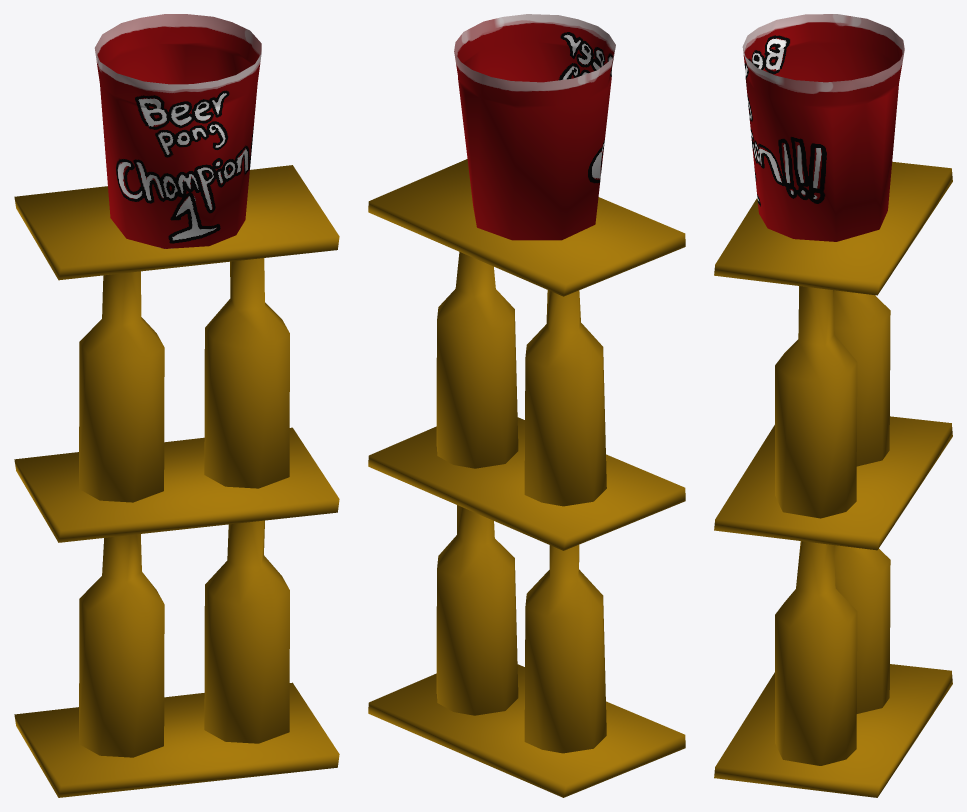
The model's file is beerpong trophie.glb.
3 renders of one model, left to right at view 1: azimuth 30°, elevation 25°; view 2: azimuth 150°, elevation 25°; view 3: azimuth 270°, elevation 25°, orthographic. The views are drawn at different scales.
Parts seen in each view (by area): view 1: Cylinder.043; view 2: Cylinder.043; view 3: Cylinder.043.
Part boxes in pixels (x1,y1,x2,y2): Cylinder.043: [14, 14, 339, 797]; Cylinder.043: [368, 14, 685, 797]; Cylinder.043: [714, 14, 952, 797].
Bounding box in the file's own units: 1.2 × 2.85 × 0.9066.
Materials: 2 (1 with a texture image).
